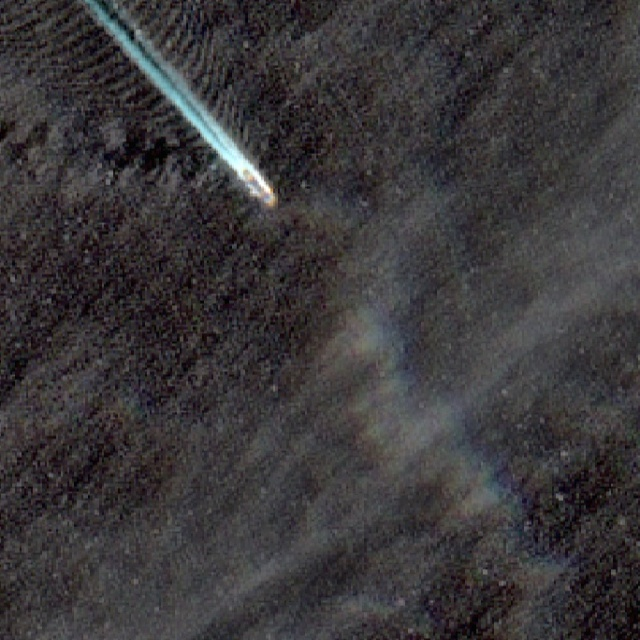wake: (94, 7, 315, 242)
